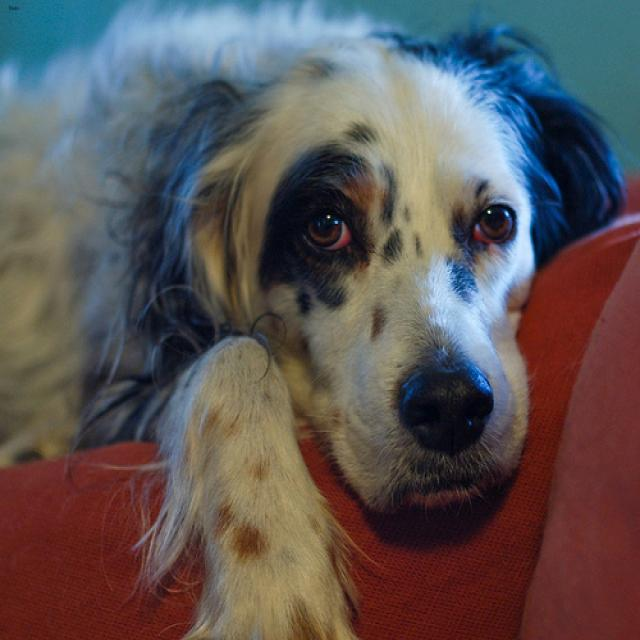dog-english_setter: (1, 1, 631, 637)
